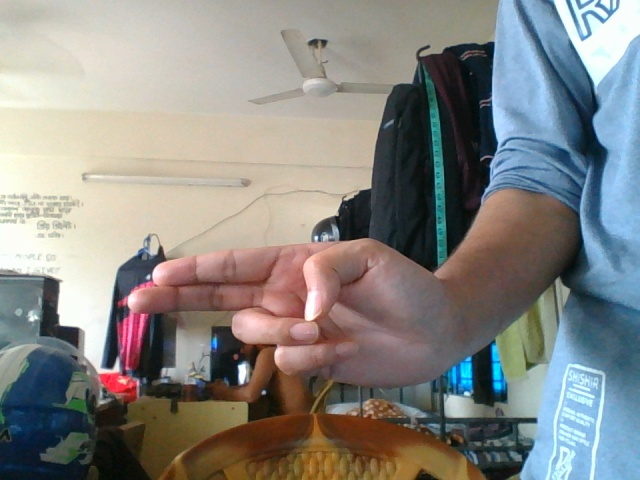ha: (119, 234, 523, 382)
